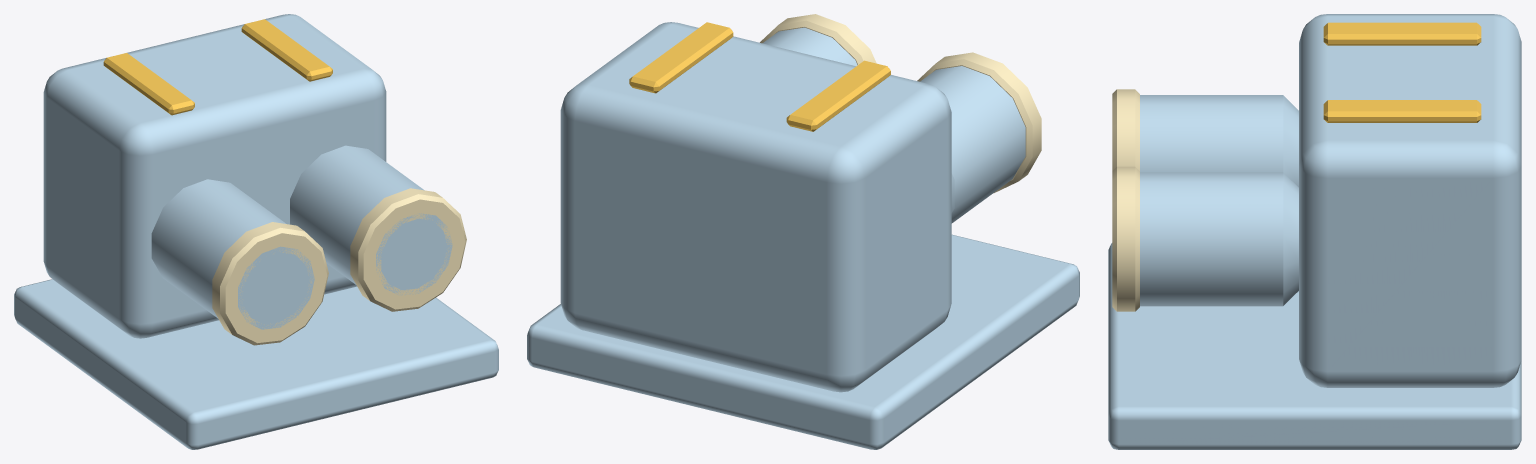
The model's file is R4X_DoubleShotPassive.glb.
The picture shows the model from 3 angles, left to right: view 1: azimuth 30°, elevation 25°; view 2: azimuth 150°, elevation 25°; view 3: azimuth 270°, elevation 25°; orthographic projection. The views are drawn at different scales.
Visible parts, largest first — view 1: R4X_DoubleShotPassive_Body; view 2: R4X_DoubleShotPassive_Body; view 3: R4X_DoubleShotPassive_Body.
Part boxes in pixels (bbox=[...]): R4X_DoubleShotPassive_Body: bbox=[14, 14, 498, 449]; R4X_DoubleShotPassive_Body: bbox=[527, 14, 1079, 449]; R4X_DoubleShotPassive_Body: bbox=[1108, 14, 1521, 449].
Size of the model in its own units: 0.52 by 0.4157 by 0.52.
